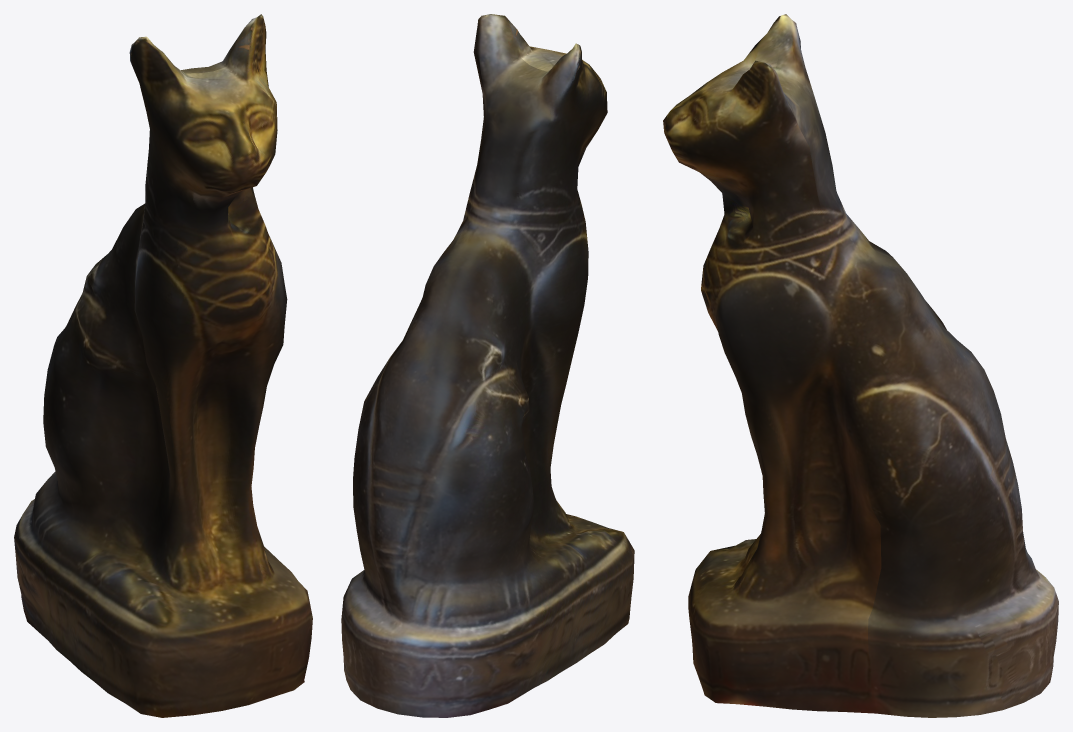
Rendered from egyptian_sculpture_cat_photogrammetry.glb.
The picture shows the model from 3 angles, left to right: view 1: azimuth 30°, elevation 25°; view 2: azimuth 150°, elevation 25°; view 3: azimuth 270°, elevation 25°; orthographic projection. The views are drawn at different scales.
Parts seen in each view (by area): view 1: Group37191; view 2: Group37191; view 3: Group37191.
Boxes of the visible parts, x1,y1,x2,y2 form: Group37191: [14, 14, 312, 717]; Group37191: [341, 14, 634, 717]; Group37191: [663, 14, 1058, 717].
Size of the model in its own units: 7.24 by 22.02 by 12.54.
1 material, 1 textured.
